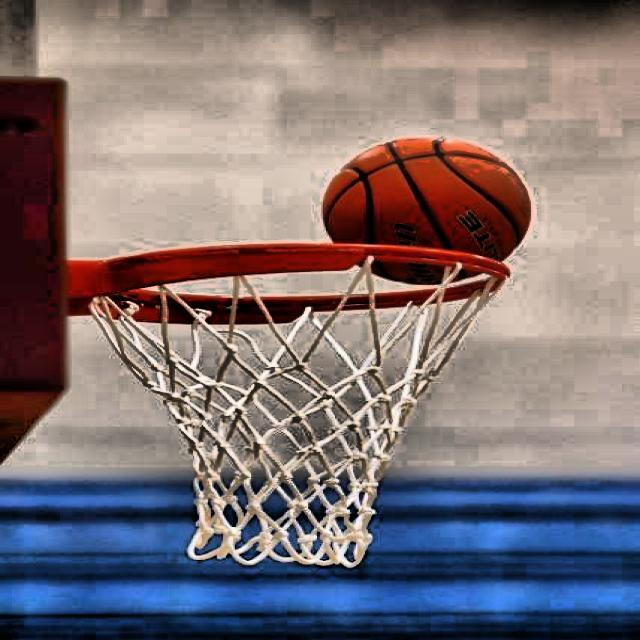board: (324, 135, 533, 282)
rim: (94, 244, 518, 570)
